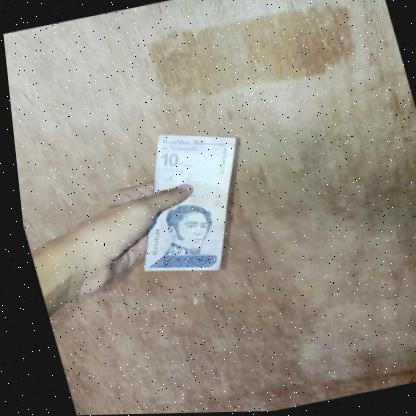ten-front-vef: (104, 120, 266, 285)
